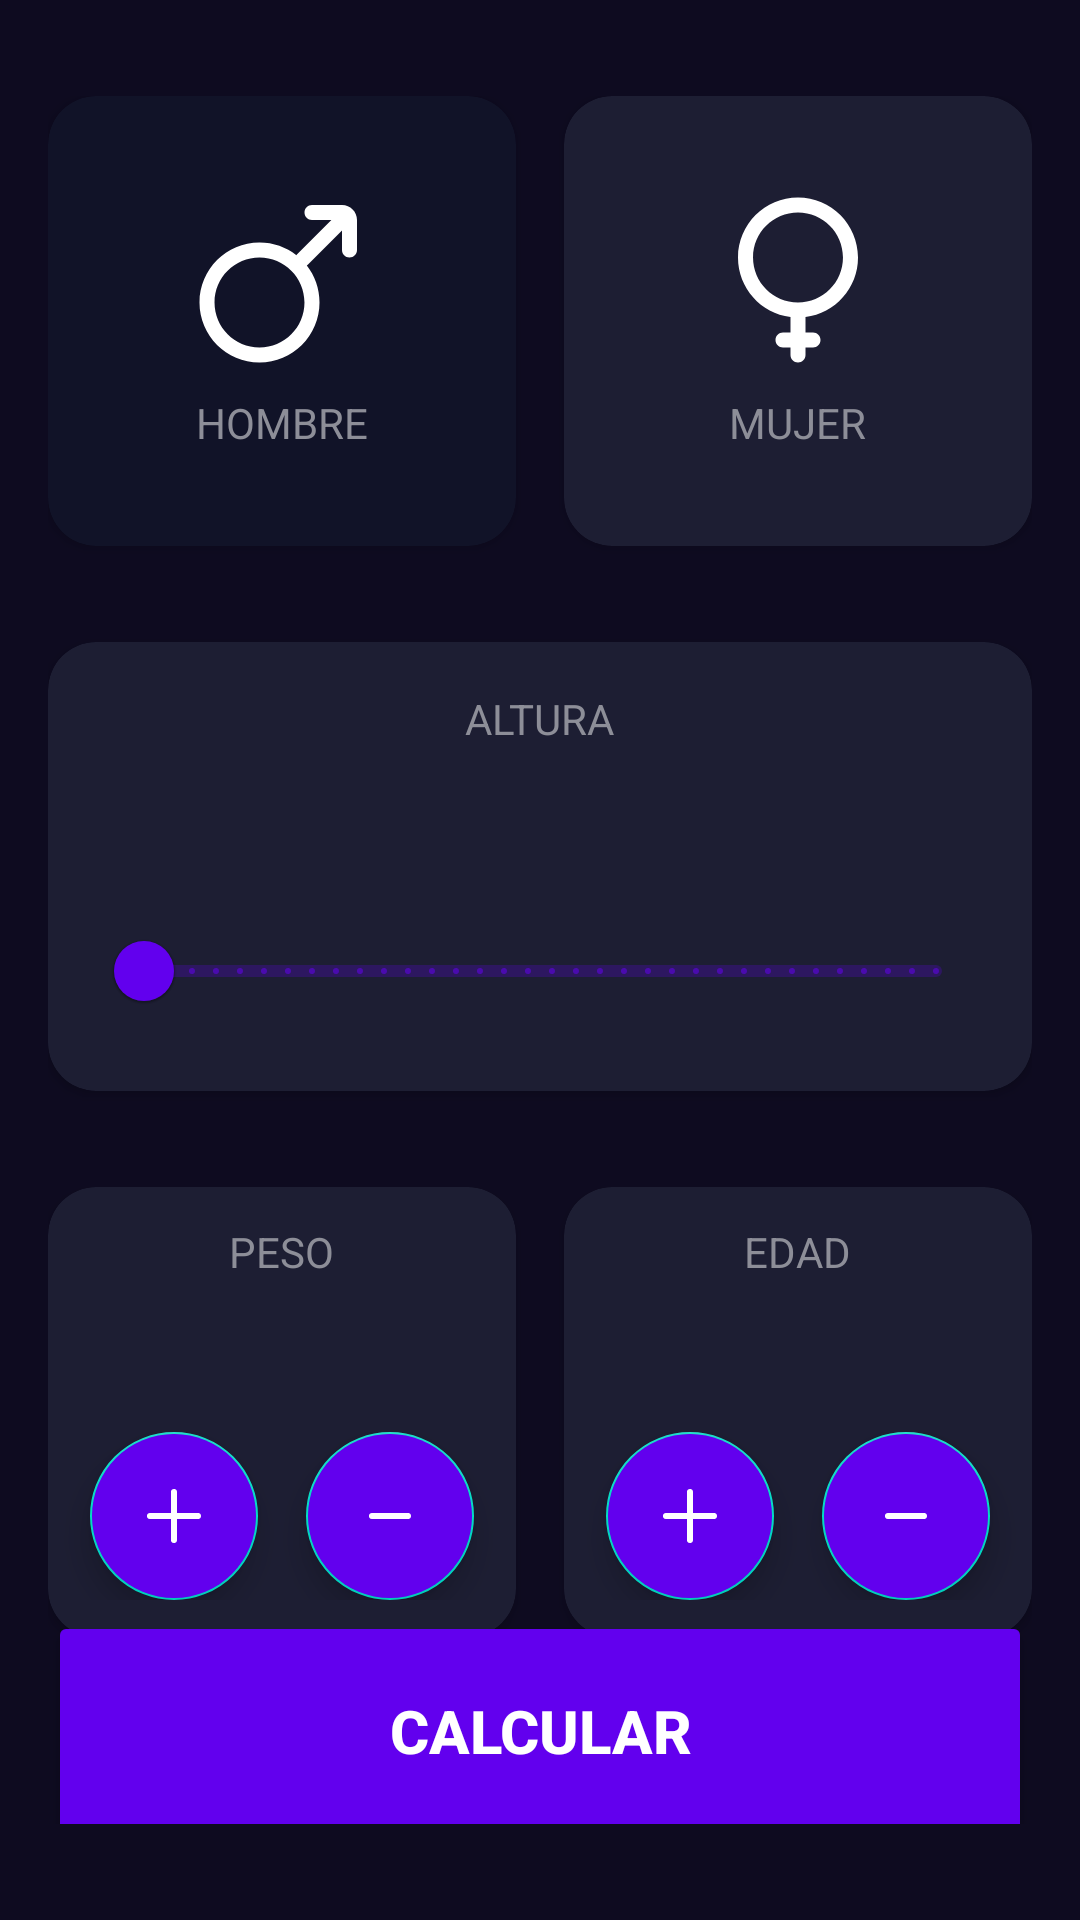

Where to tap for icons on this 1080x1920 app screen, as (x=x, y=y):
Female symbol: (x=798, y=280)
Male symbol: (x=278, y=284)
minus: (x=390, y=1516), (x=906, y=1516)
plus: (x=174, y=1516), (x=690, y=1516)
